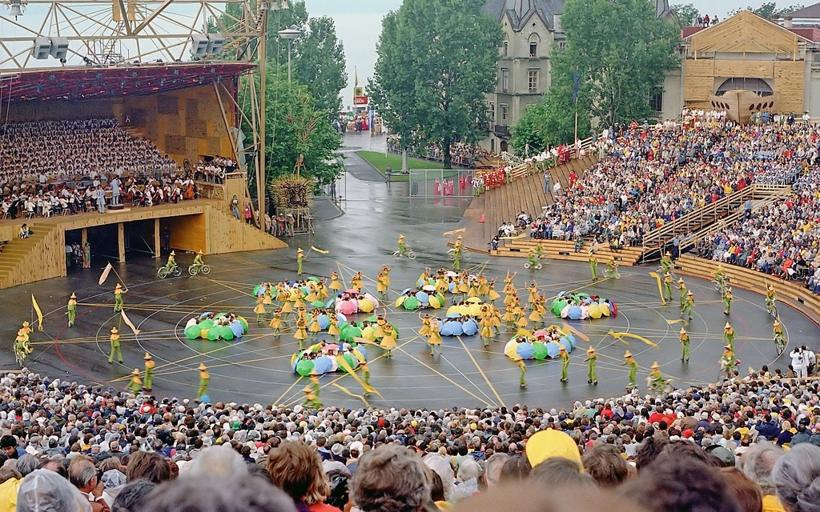non-vehicle: (157, 264, 182, 278), (718, 363, 739, 379), (645, 382, 672, 394), (447, 247, 471, 260), (392, 246, 415, 259), (600, 264, 620, 278), (186, 264, 211, 274), (523, 257, 542, 270), (766, 300, 777, 318), (774, 335, 785, 352), (14, 349, 25, 366)
